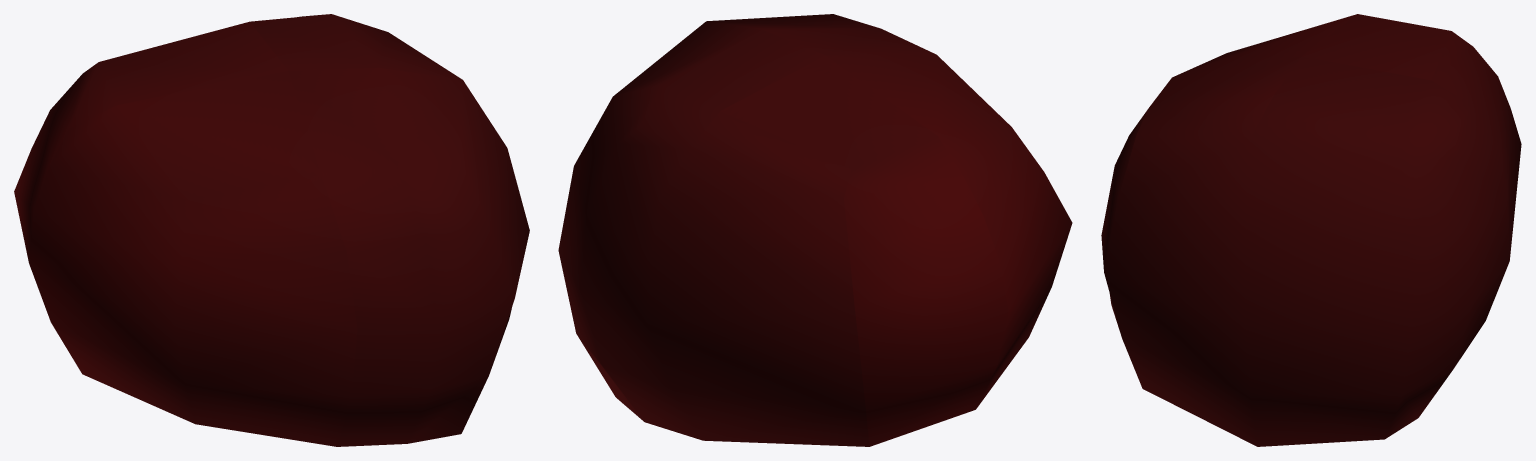
The model's file is geology-pebbles-smalldirtchunk_v9.fbx.
3 views of the same model, side by side, from view 1: azimuth 30°, elevation 25°; view 2: azimuth 150°, elevation 25°; view 3: azimuth 270°, elevation 25° (orthographic). The views are drawn at different scales.
Parts seen in each view (by area): view 1: SmallDirtChunk_v9; view 2: SmallDirtChunk_v9; view 3: SmallDirtChunk_v9.
Boxes of the visible parts, x1=… form: SmallDirtChunk_v9: x1=14, y1=14, x2=529, y2=446; SmallDirtChunk_v9: x1=558, y1=14, x2=1072, y2=446; SmallDirtChunk_v9: x1=1101, y1=14, x2=1521, y2=446.
Size of the model in its own units: 3.01 by 2.37 by 2.78.
